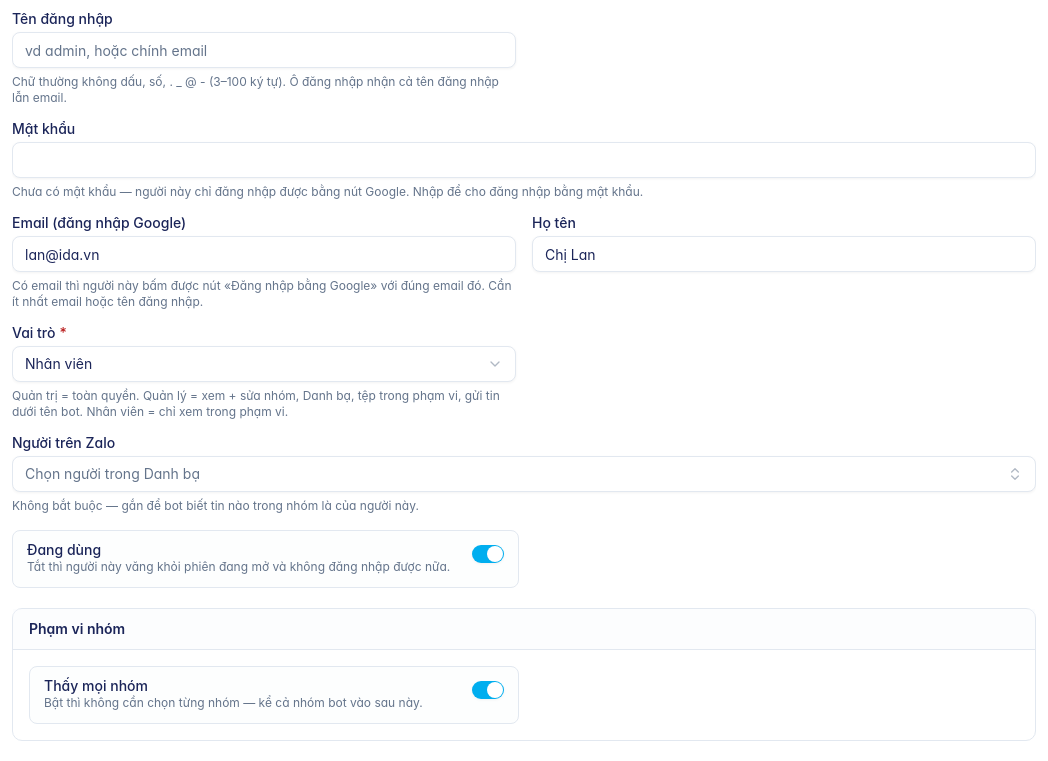
Scenario: user form › hides the group picker when «all groups» is on, and brings it back when switched off
Expected: the text "Nhóm được xem" is not shown
Click the switch named "Thấy mọi nhóm" in the row of "Thấy mọi nhóm".
click(488, 690)  # box top-left (472, 681), bottom-right (504, 699)
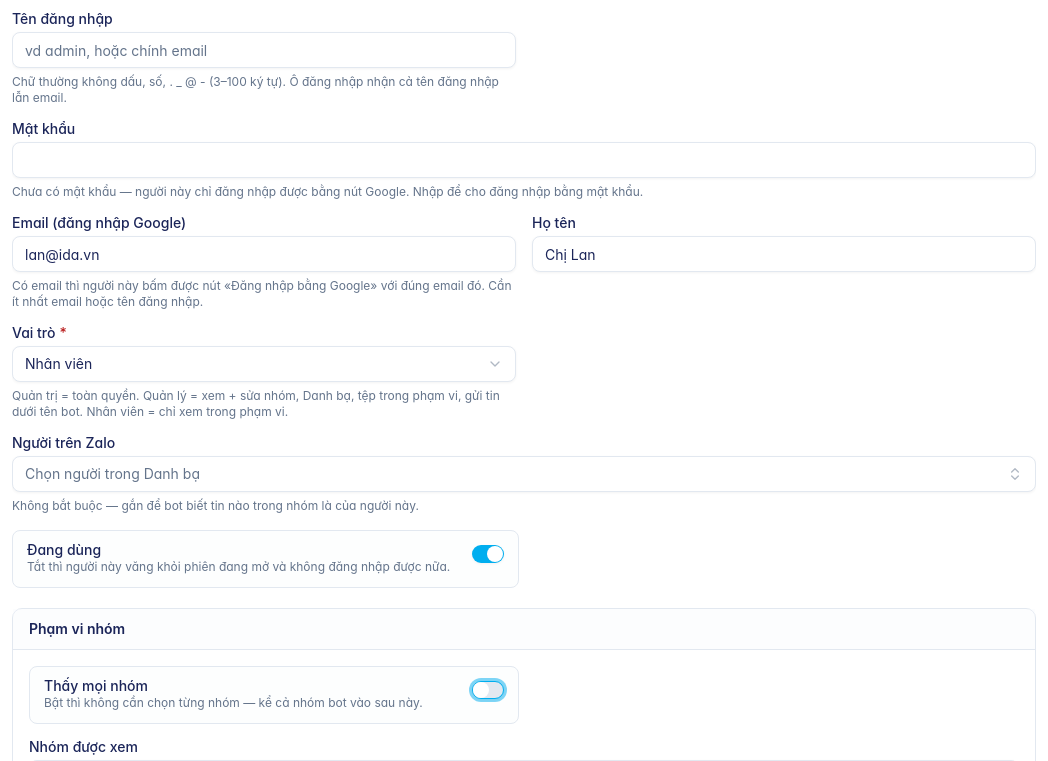
Result: the text "Nhóm được xem" is shown at top-left (29, 738), bottom-right (138, 755)
